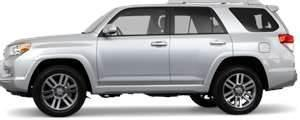backlight: (273, 31, 299, 55)
headlight: (4, 41, 36, 59)
side_glass: (99, 6, 227, 42)
